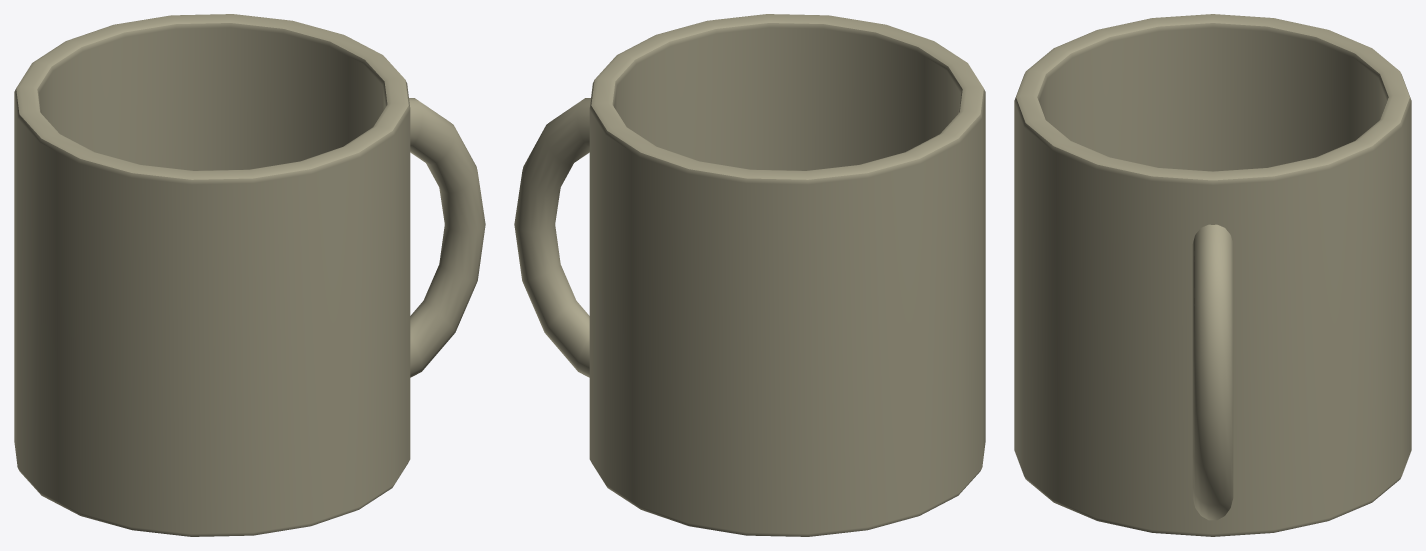
Rendered from tasse.fbx.
The picture shows the model from 3 angles, left to right: view 1: azimuth 30°, elevation 25°; view 2: azimuth 150°, elevation 25°; view 3: azimuth 270°, elevation 25°; orthographic projection.
Parts seen in each view (by area): view 1: pTorus2; view 2: pTorus2; view 3: pTorus2.
Part boxes in pixels (<box>): pTorus2: <box>14,14,485,536</box>; pTorus2: <box>514,14,985,536</box>; pTorus2: <box>1014,14,1411,536</box>.
Size of the model in its own units: 77 by 59.85 by 60.
